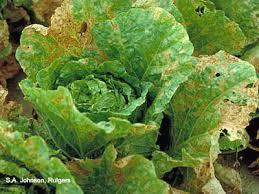Bok-Choy-Diseased: (172, 50, 257, 159), (15, 6, 126, 84)
